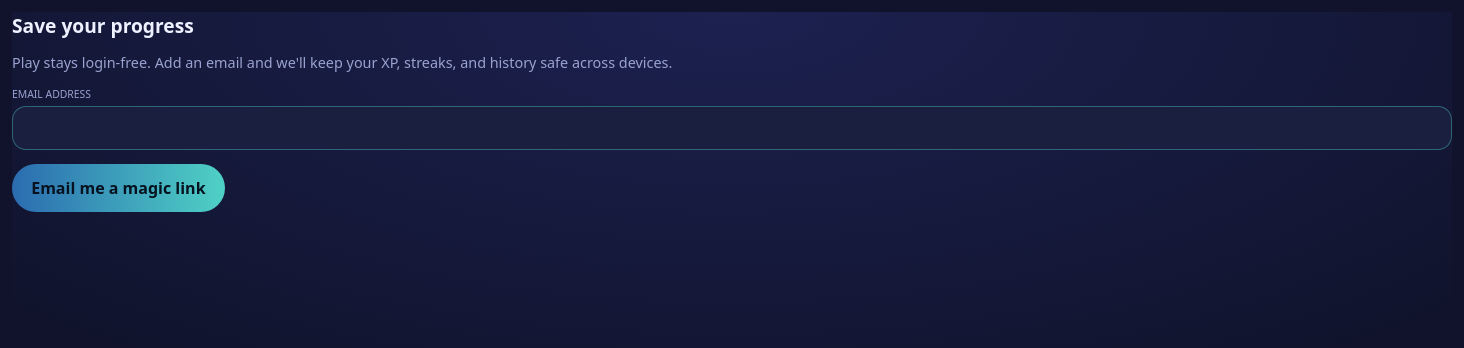
Test: ClaimPanel › without a dev token, only tells the player to check their email
Type "a@b.com" into the field labelled "Email address" at (732, 128), box [12,106,1452,150]
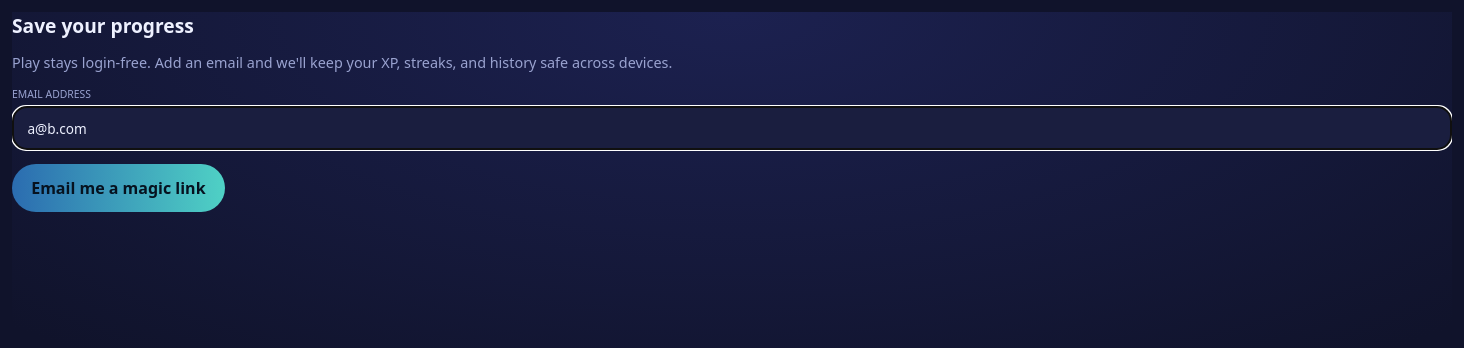
Click the button "Email me a magic link" at (118, 188), box [12,164,225,212]
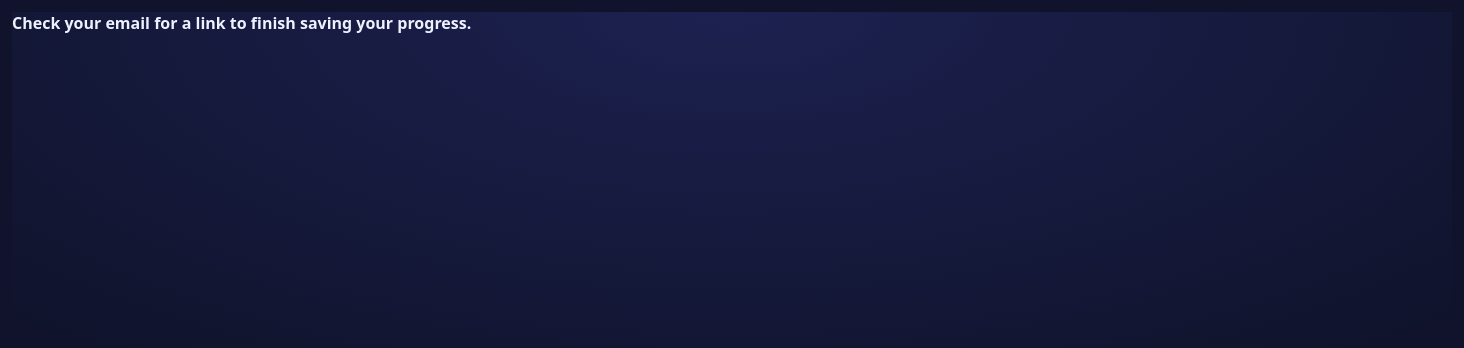
Now the text "Check your email for a link to finish saving your progress." is shown, box [12,12,471,34]
